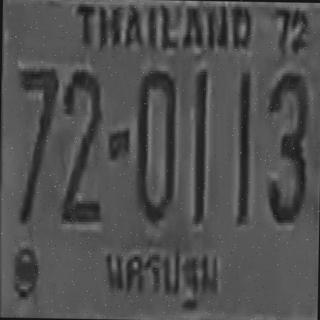N00: (134, 68, 175, 221)
N01: (235, 70, 250, 222), (192, 68, 207, 220)
N02: (59, 68, 102, 223)
N03: (266, 70, 308, 220)
N07: (16, 65, 57, 221)
P28: (100, 236, 219, 316)
